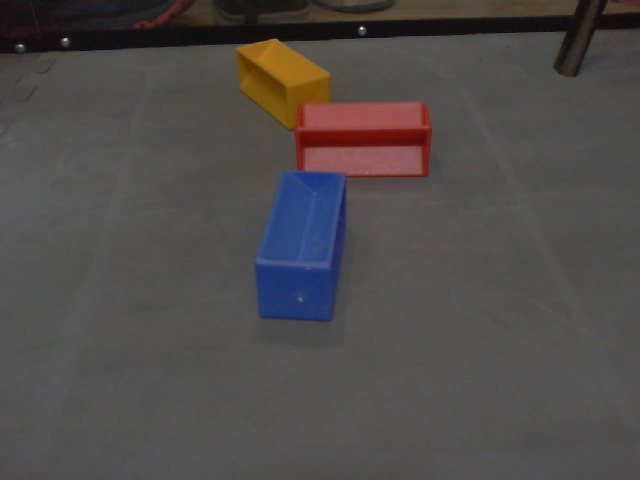BlueSample: (253, 169, 348, 323)
RedSample: (293, 99, 433, 181)
YellowSample: (234, 36, 333, 131)
